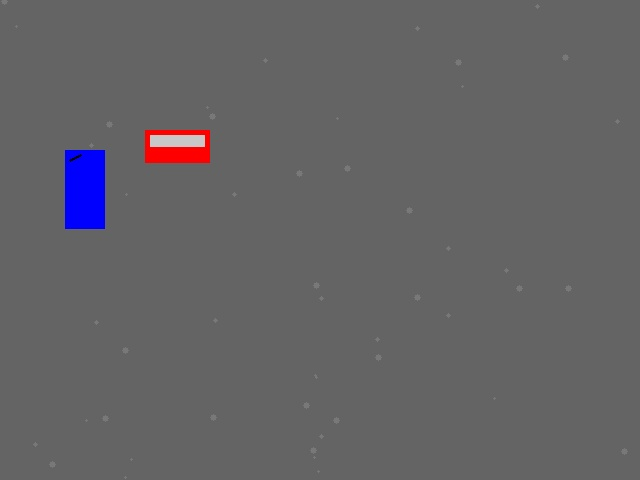car: (145, 130, 209, 162)
motorcycle: (65, 150, 104, 228)
